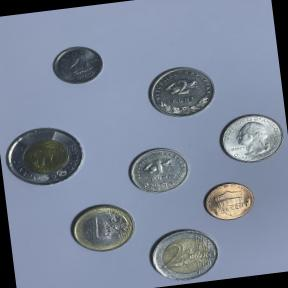coin: (0, 117, 93, 195), (143, 222, 225, 288), (142, 60, 222, 124), (64, 196, 142, 260), (213, 106, 288, 169), (45, 38, 112, 91), (199, 177, 260, 226)
